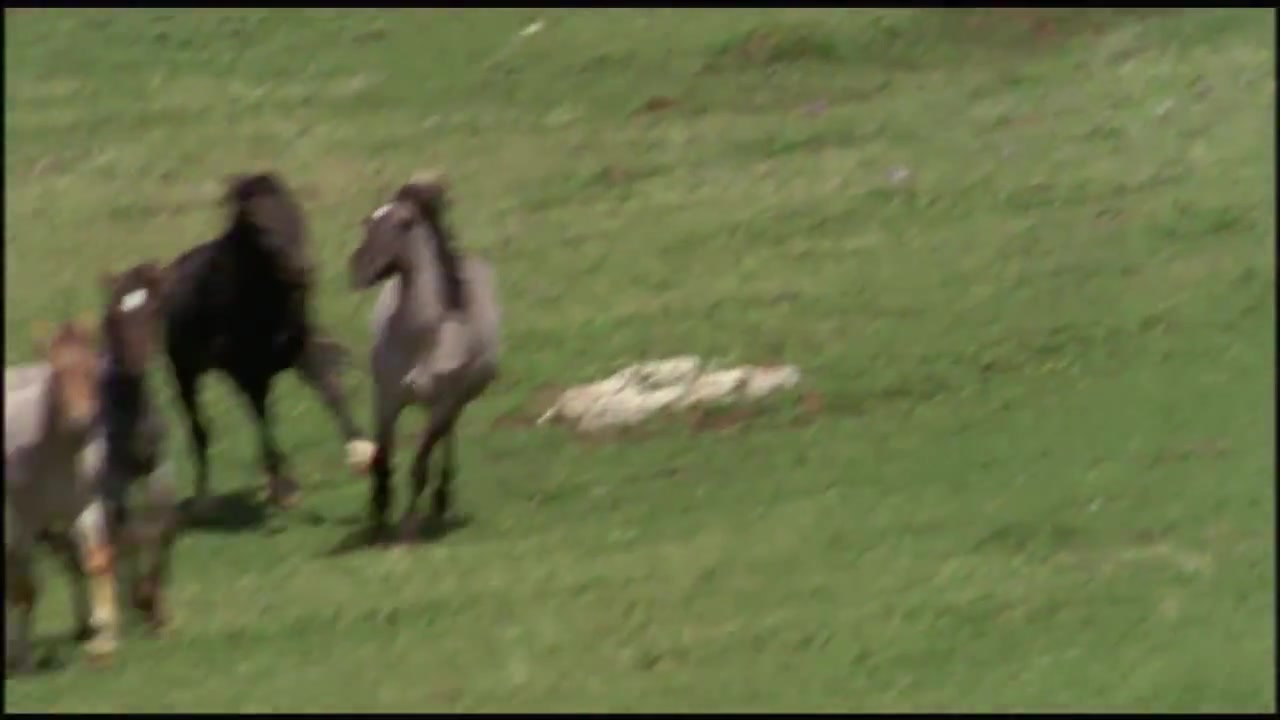horse: (344, 176, 502, 546)
